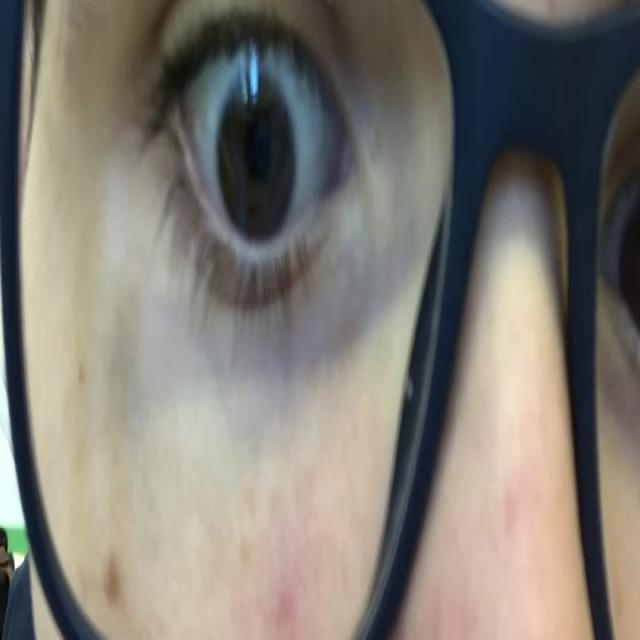eye: (128, 0, 364, 347)
gaze: (214, 56, 299, 254)
